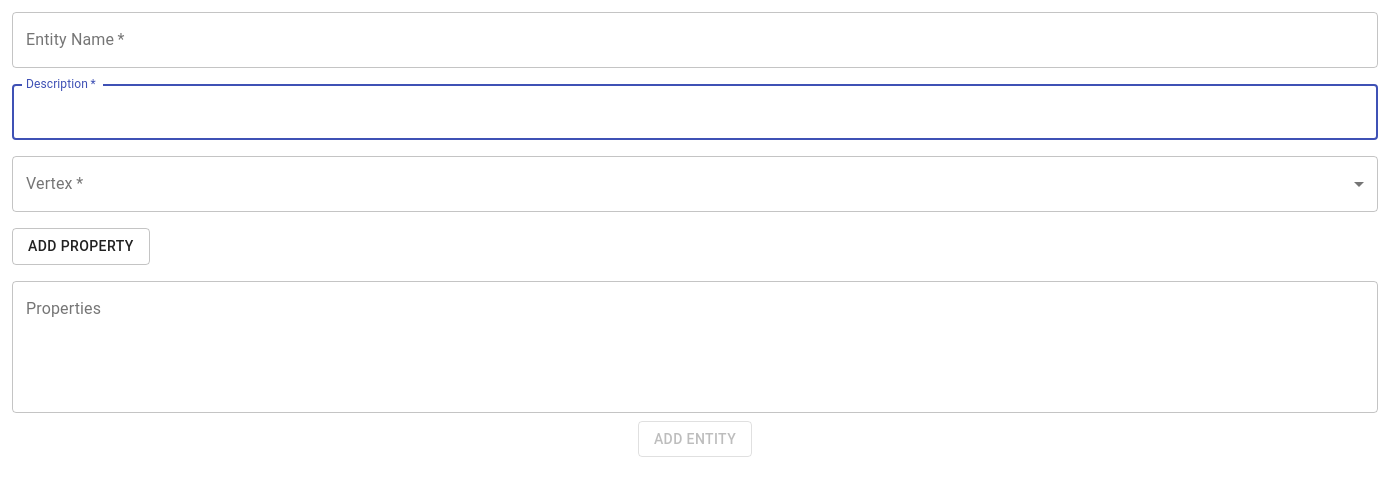
Test: Add Entity UI Component › Add Entity Inputs › should display error message when invalid entity description entered
Type "Entity description +" into the field with id "entity-description-input" at (695, 112), box [12,84,1378,140]
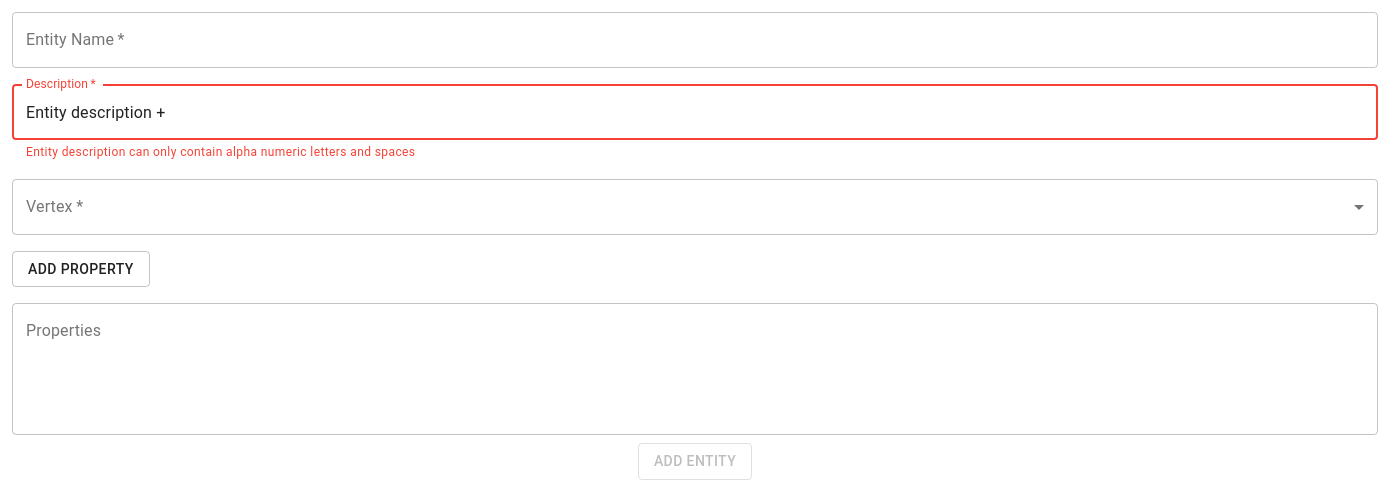
Check: the text with id "entity-description-input-helper-text" reads "Entity description can only contain alpha numeric letters and spaces", box [26,145,416,159]
